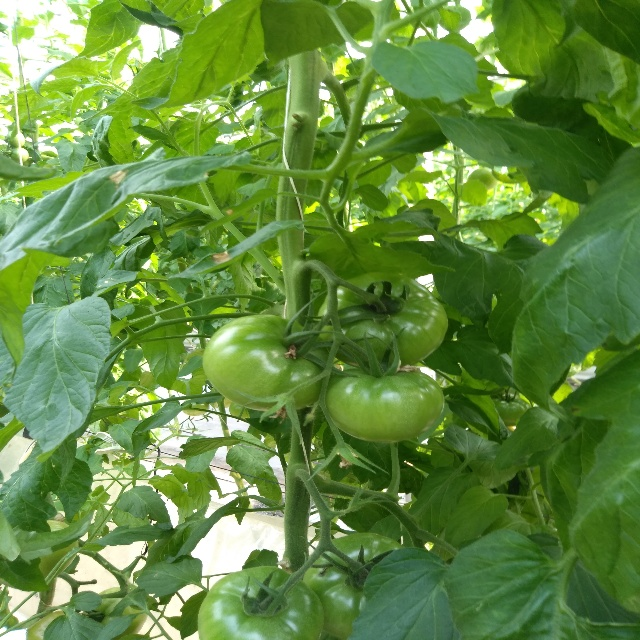b_green: (315, 272, 448, 371), (202, 314, 335, 411), (303, 533, 405, 639), (197, 565, 326, 640), (320, 369, 445, 443), (0, 520, 79, 590), (83, 586, 148, 640), (26, 610, 65, 640)
